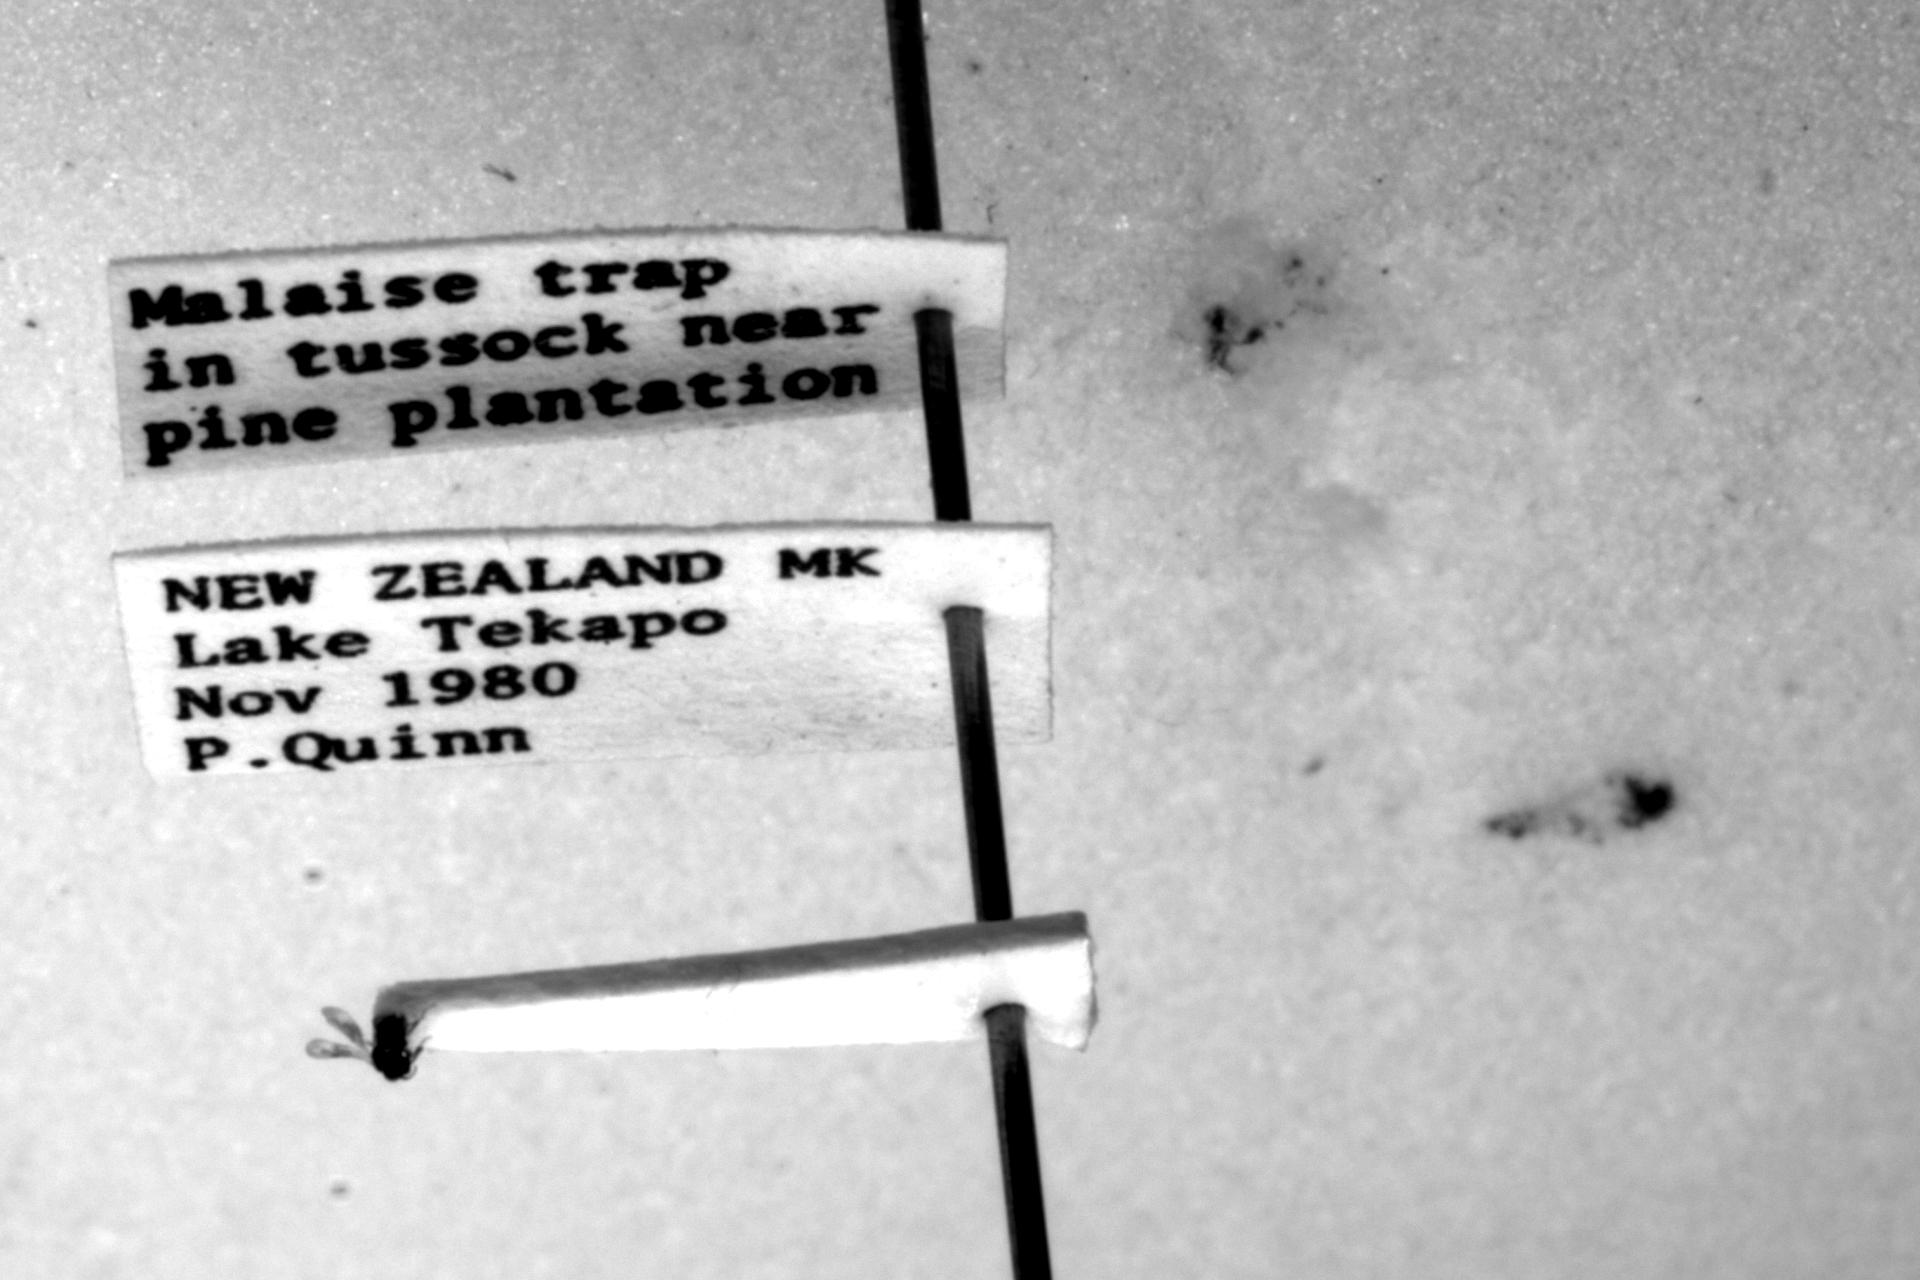typed_label: (113, 526, 1050, 776), (109, 229, 1009, 476)
